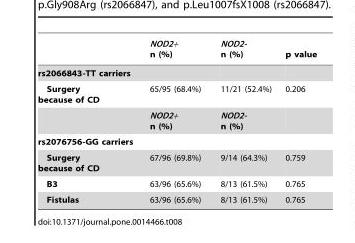table: (37, 36, 316, 203)
table column: (37, 36, 140, 203), (140, 36, 209, 203), (209, 36, 277, 203), (277, 36, 316, 203)
table column header: (37, 36, 316, 63)
table projected row header: (37, 63, 316, 80), (37, 133, 316, 149)
table row: (37, 36, 316, 63), (37, 106, 316, 133), (37, 80, 316, 106), (37, 149, 316, 175), (37, 63, 316, 80), (37, 133, 316, 149), (37, 175, 316, 191), (37, 191, 316, 203)
table spanning cell: (37, 80, 140, 133)
